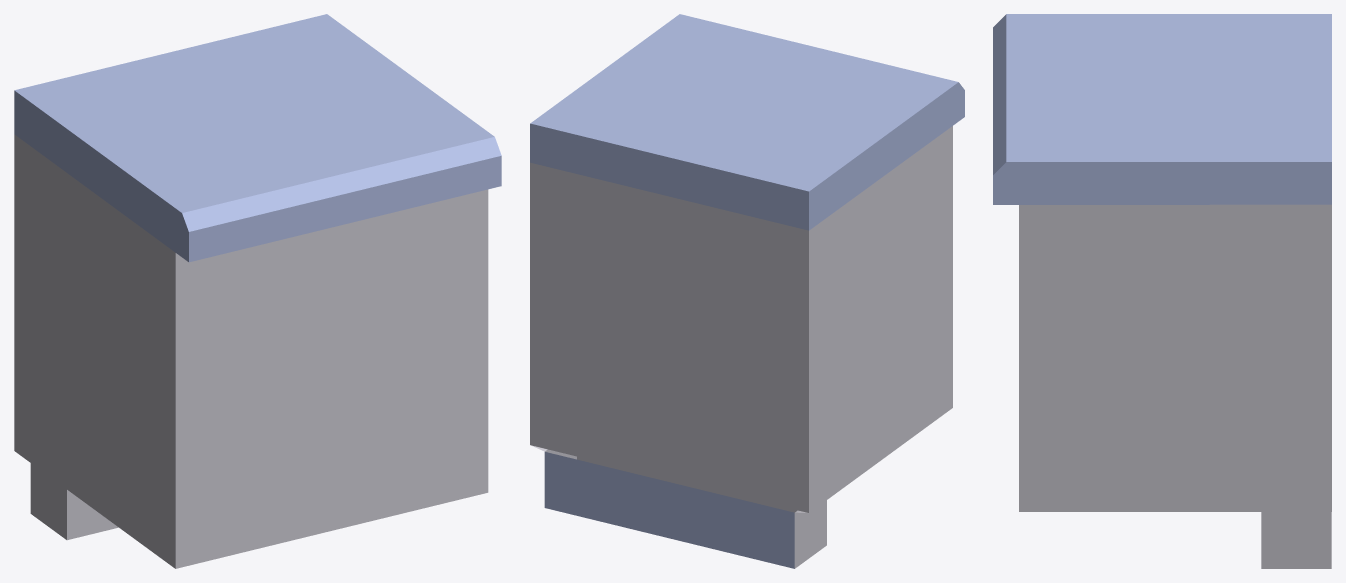
Rendered from cupboard_top_none.fbx.
The picture shows the model from 3 angles, left to right: view 1: azimuth 30°, elevation 25°; view 2: azimuth 150°, elevation 25°; view 3: azimuth 270°, elevation 25°; orthographic projection. The views are drawn at different scales.
Parts seen in each view (by area): view 1: Cube.076; view 2: Cube.076; view 3: Cube.076.
Boxes of the visible parts, x1,y1,x2,y2 form: Cube.076: (14,14,501,568); Cube.076: (530,14,964,568); Cube.076: (993,14,1331,568).
Bounding box in the file's own units: 200 × 261 × 193.
